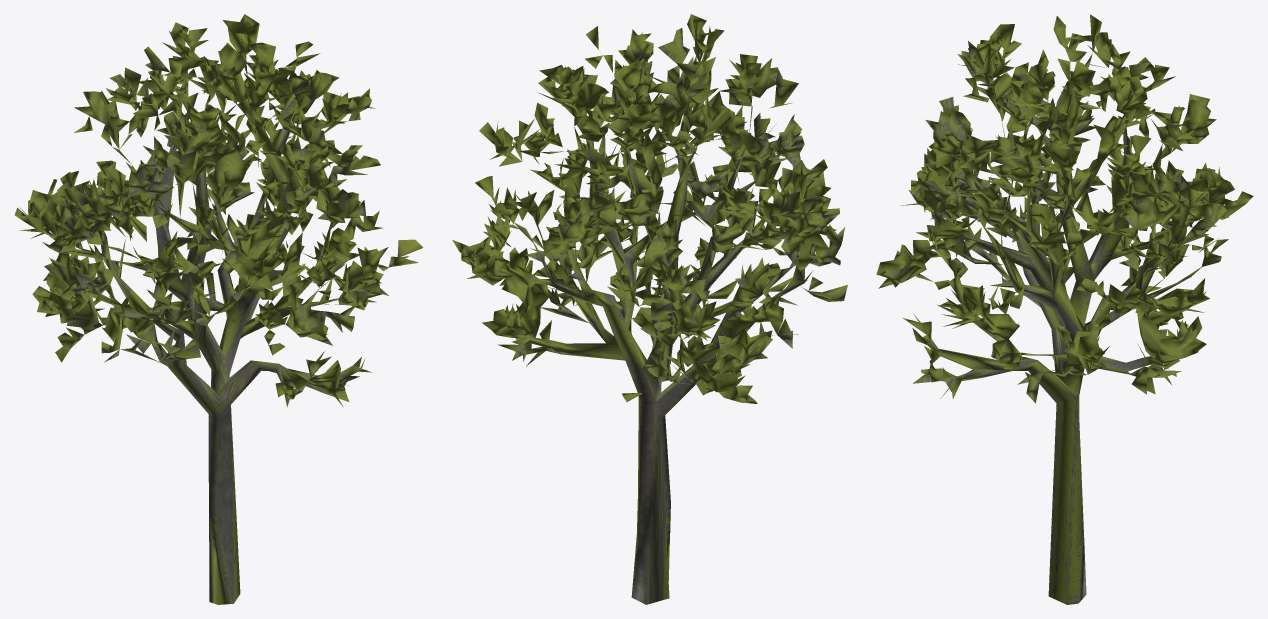
Rendered from oak-near.glb.
3 renders of one model, left to right at view 1: azimuth 30°, elevation 25°; view 2: azimuth 150°, elevation 25°; view 3: azimuth 270°, elevation 25°, orthographic.
Visible parts, largest first — view 1: world; view 2: world; view 3: world.
Boxes of the visible parts, left/top/right/bottom form: world: left=14, top=14, right=422, bottom=604; world: left=452, top=14, right=847, bottom=604; world: left=876, top=14, right=1253, bottom=604.
Bounding box in the file's own units: 0.6367 × 0.9973 × 0.6131.
1 material, 1 textured.
